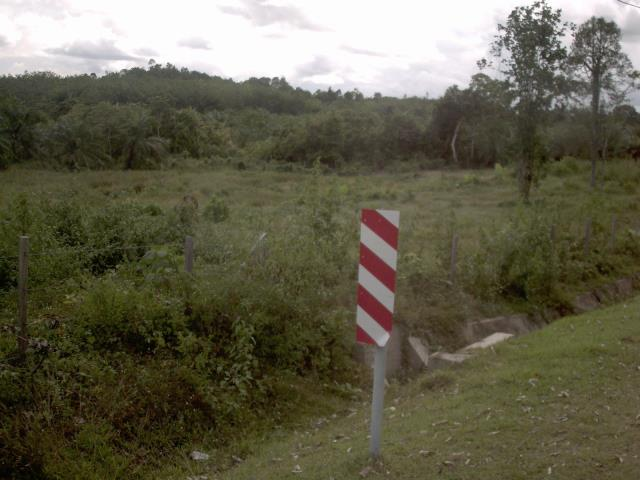traffic_sign: (340, 198, 409, 355)
